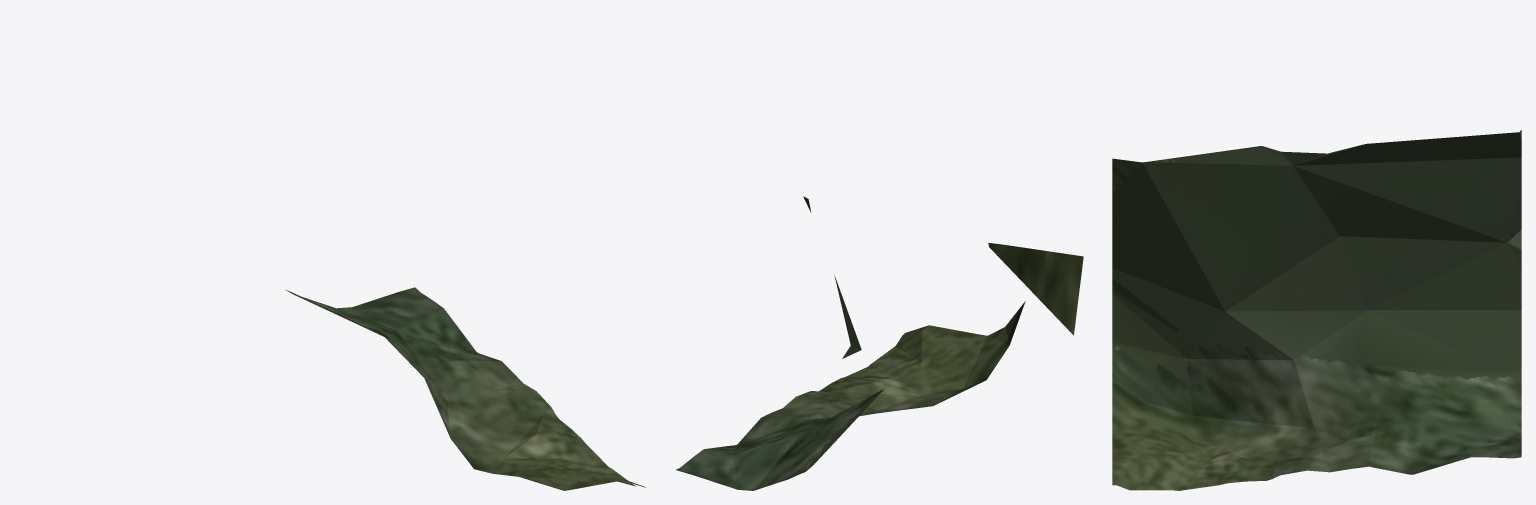
3 renders of one model, left to right at view 1: azimuth 30°, elevation 25°; view 2: azimuth 150°, elevation 25°; view 3: azimuth 270°, elevation 25°, orthographic. The views are drawn at different scales.
Size of the model in its own units: 2.95 by 2.41 by 2.95.
Materials: 2 (2 with a texture image).
